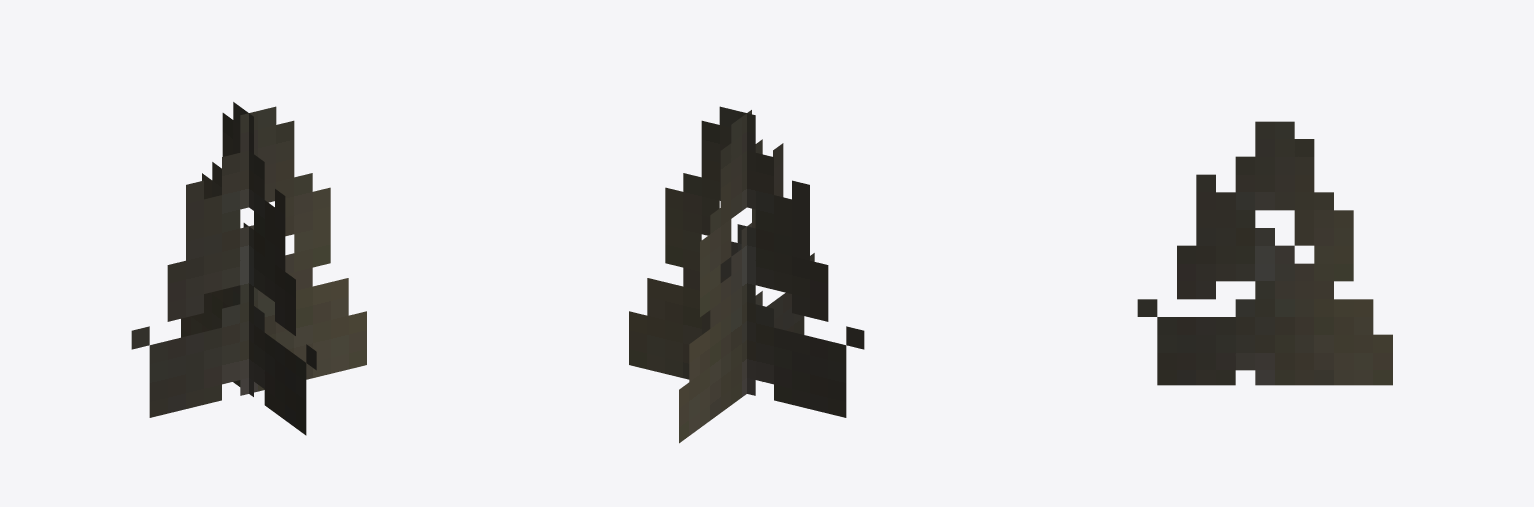
File: treePine_small.glb
The picture shows the model from 3 angles, left to right: view 1: azimuth 30°, elevation 25°; view 2: azimuth 150°, elevation 25°; view 3: azimuth 270°, elevation 25°; orthographic projection. The views are drawn at different scales.
Parts seen in each view (by area): view 1: treePine_small; view 2: treePine_small; view 3: treePine_small.
Boxes of the visible parts, box(x1,y1,x2,y2) form: treePine_small: box(131, 102, 366, 435); treePine_small: box(629, 106, 864, 443); treePine_small: box(1137, 121, 1392, 385).
Size of the model in its own units: 0.7 by 0.4 by 0.7.
1 material, 1 textured.
